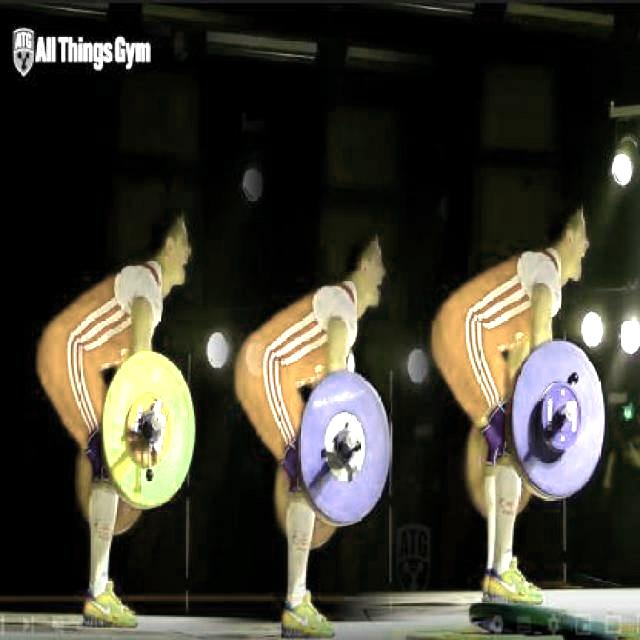barbell: (98, 345, 201, 517), (295, 362, 397, 532), (509, 334, 610, 502)
